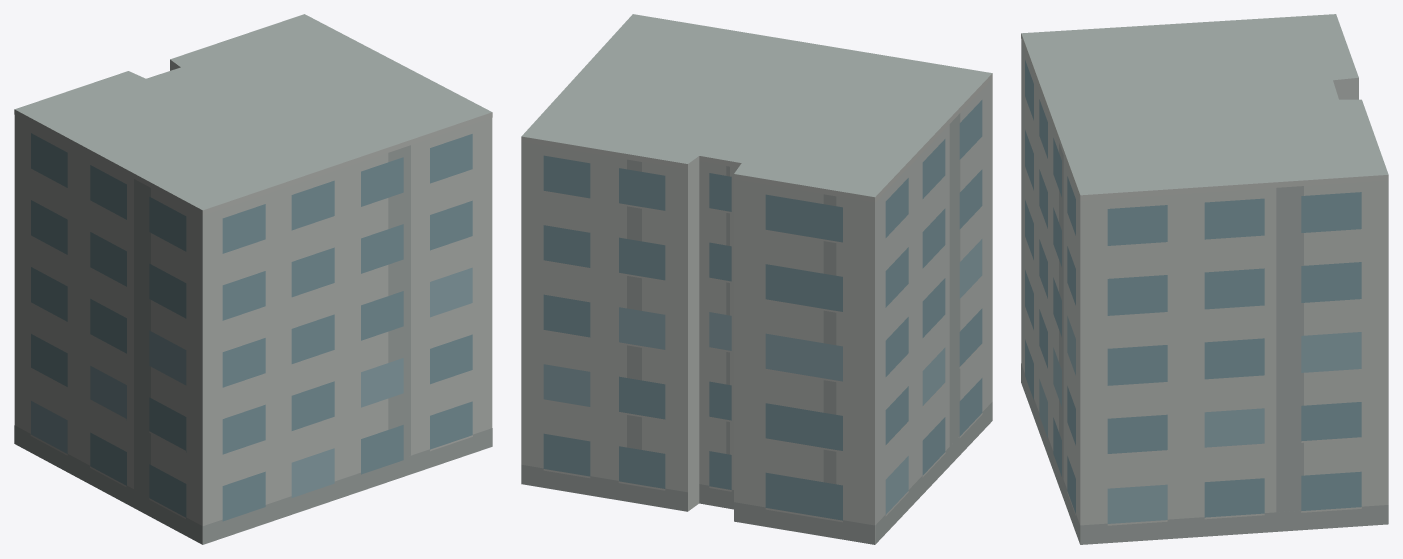
The model's file is survey-upis-32575712.glb.
The picture shows the model from 3 angles, left to right: view 1: azimuth 30°, elevation 25°; view 2: azimuth 150°, elevation 25°; view 3: azimuth 270°, elevation 25°; orthographic projection. The views are drawn at different scales.
Parts seen in each view (by area): view 1: survey-upis-32575712.tmp; view 2: survey-upis-32575712.tmp; view 3: survey-upis-32575712.tmp.
Boxes of the visible parts, left/top/right/bottom form: survey-upis-32575712.tmp: left=14, top=14, right=492, bottom=544; survey-upis-32575712.tmp: left=521, top=14, right=992, bottom=544; survey-upis-32575712.tmp: left=1021, top=14, right=1388, bottom=544.
Bounding box in the file's own units: 16.97 × 15.25 × 14.54.
